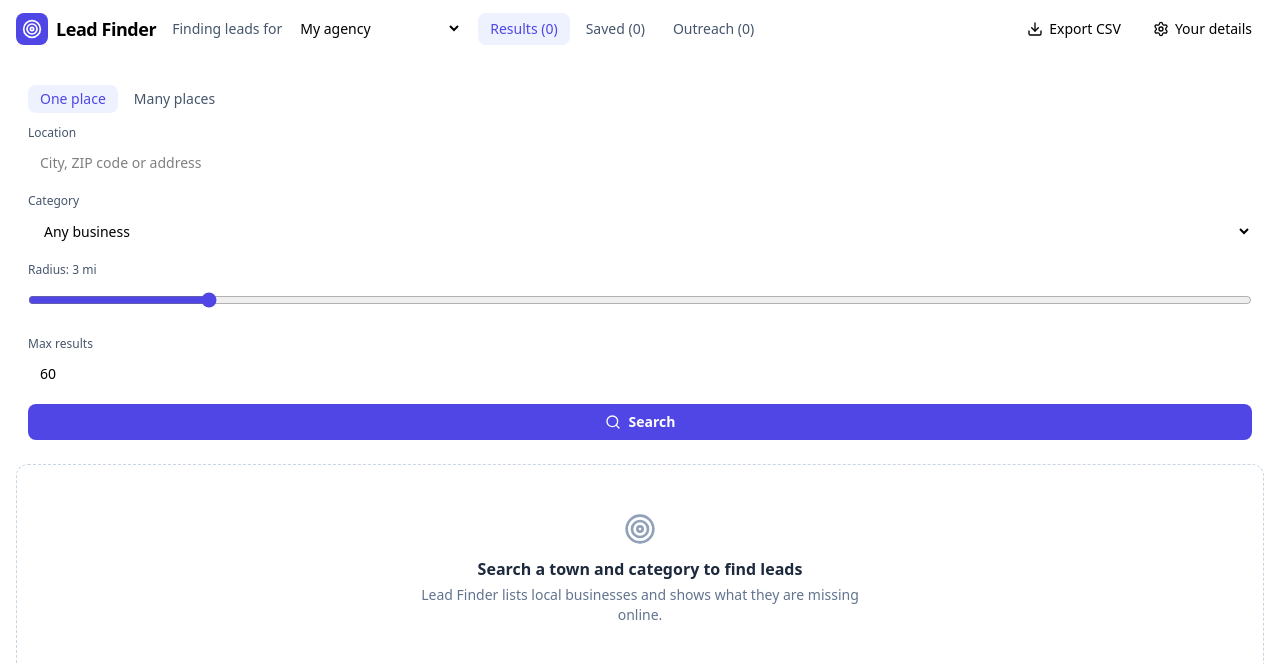
many places search › fills from a state list, searches each place in order and merges the results once
Click the button "Many places" at (174, 99), box [122,85,227,113]
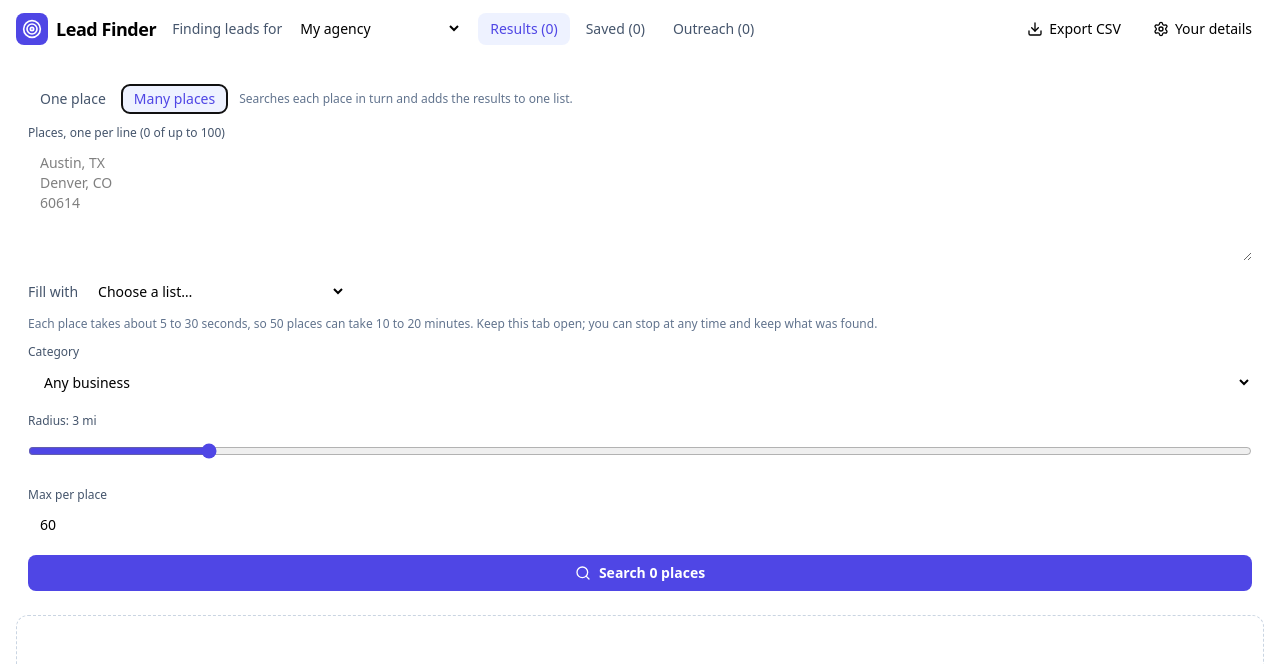
Check: the text labelled "Location" is gone
Select "Texas: biggest cities" in the dropdown labelled "Fill with" at (216, 292), box [86,275,346,308]
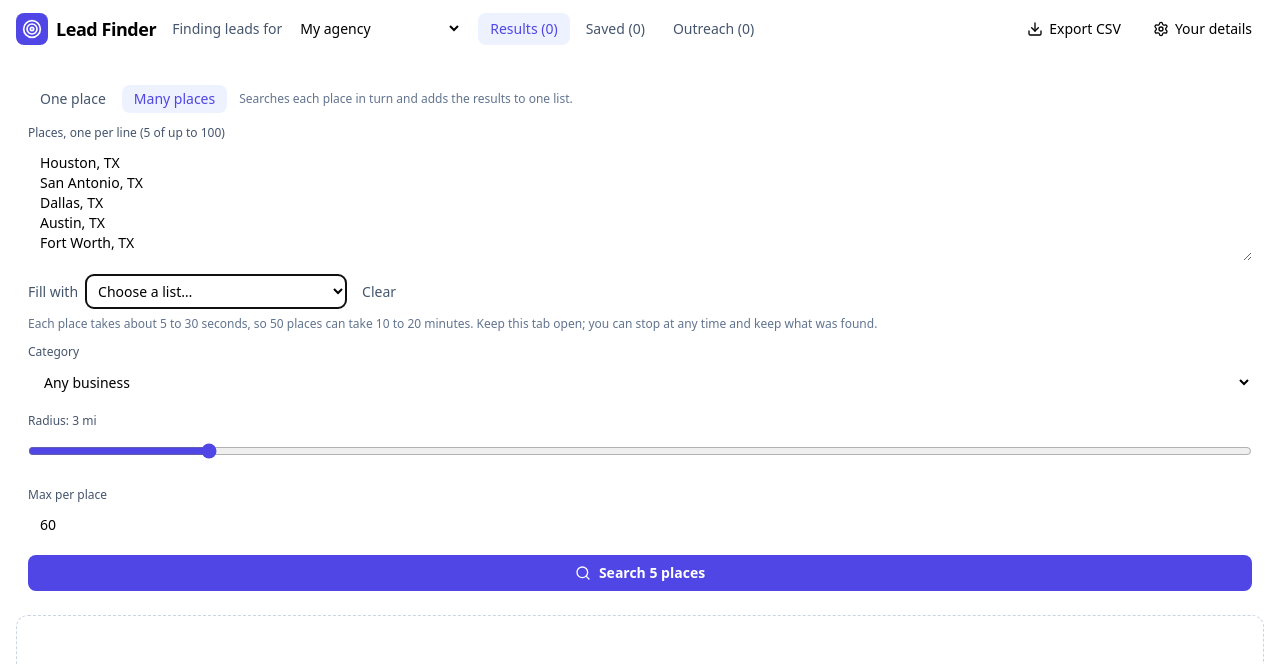
Check: the text box labelled "Places, one per line (5 of up to 100)" is shown, box [28,145,1252,261]
Check: the text "Max per place" is shown, box [28,486,107,503]
Click the button "Search 5 places" at (640, 573), box [28,555,1252,591]
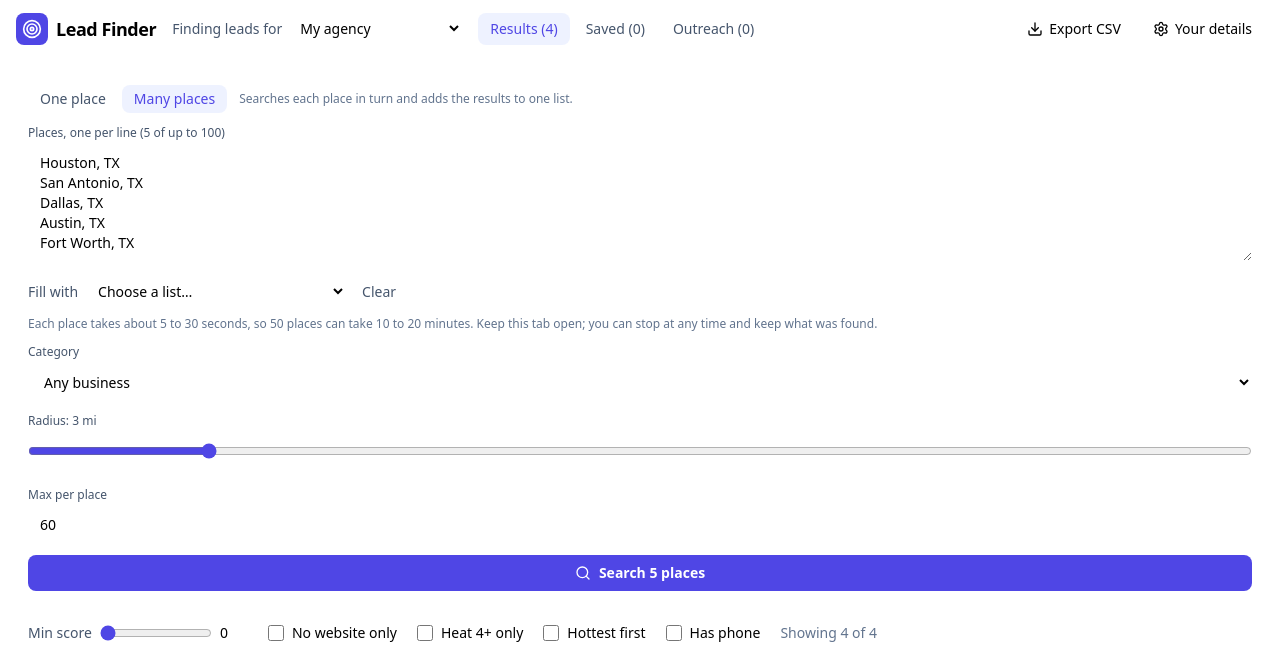
Check: the button "Results (4)" is shown, box [478,12,570,44]
